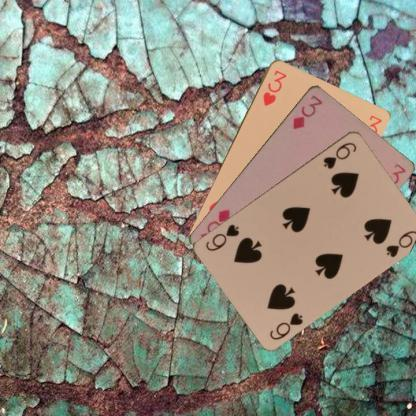3d: (290, 92, 324, 130)
3h: (260, 67, 288, 107)
6s: (266, 310, 304, 341), (321, 140, 358, 170)
